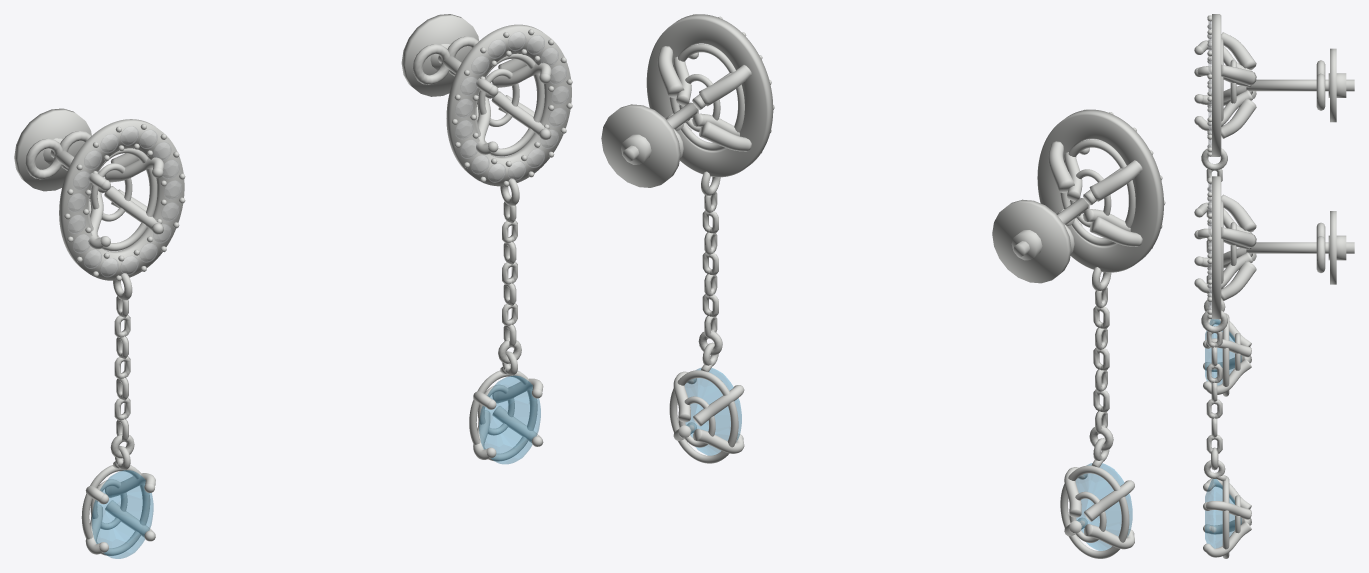
Rendered from Earring_OvalHaloDrop.glb.
3 renders of one model, left to right at view 1: azimuth 30°, elevation 25°; view 2: azimuth 150°, elevation 25°; view 3: azimuth 270°, elevation 25°, orthographic. The views are drawn at different scales.
Parts seen in each view (by area): view 1: Halo_Frame, Halo_Frame.001, Drop_Chain_Center, Drop_Chain_Pair, Accent_Halo.001, Accent_Halo, Head_Center.001, Head_Center, Attach_Back, Attach_Back.001, AccentMatch_Drop_Center, AccentMatch_Drop_Pair; view 2: Halo_Frame.001, Halo_Frame, Drop_Chain_Center, Drop_Chain_Pair, Attach_Back.001, Attach_Back, Head_Center.001, Head_Center, AccentMatch_Drop_Pair, AccentMatch_Drop_Center; view 3: Drop_Chain_Center, Halo_Frame, Halo_Frame.001, Drop_Chain_Pair, Head_Center, Head_Center.001, Attach_Back, Attach_Back.001, AccentMatch_Drop_Center, Attach_Post.001, Attach_Post, AccentMatch_Drop_Pair (+2 smaller).
Part boxes in pixels (x1,y1,x2,y2): Halo_Frame: [446, 24, 572, 186]; Halo_Frame.001: [59, 119, 185, 281]; Drop_Chain_Center: [469, 178, 543, 461]; Drop_Chain_Pair: [81, 273, 155, 555]; Accent_Halo.001: [68, 126, 181, 276]; Accent_Halo: [455, 32, 569, 182]; Head_Center.001: [87, 148, 163, 251]; Head_Center: [475, 53, 551, 156]; Attach_Back: [401, 14, 478, 96]; Attach_Back.001: [14, 108, 91, 191]; AccentMatch_Drop_Center: [479, 376, 540, 463]; AccentMatch_Drop_Pair: [92, 470, 153, 558]; Halo_Frame.001: [1037, 109, 1165, 272]; Halo_Frame: [646, 14, 774, 177]; Drop_Chain_Center: [669, 171, 744, 463]; Drop_Chain_Pair: [1060, 267, 1134, 558]; Attach_Back.001: [992, 199, 1074, 283]; Attach_Back: [601, 104, 683, 187]; Head_Center.001: [1060, 139, 1135, 246]; Head_Center: [669, 44, 744, 150]; AccentMatch_Drop_Pair: [1076, 463, 1132, 550]; AccentMatch_Drop_Center: [685, 368, 741, 455]; Drop_Chain_Center: [1201, 309, 1251, 558]; Halo_Frame: [1207, 176, 1256, 319]; Halo_Frame.001: [1207, 14, 1256, 156]; Drop_Chain_Pair: [1201, 147, 1251, 396]; Head_Center: [1194, 201, 1252, 293]; Head_Center.001: [1194, 38, 1252, 130]; Attach_Back: [1316, 211, 1346, 284]; Attach_Back.001: [1316, 48, 1346, 122]; AccentMatch_Drop_Center: [1205, 479, 1241, 548]; Attach_Post.001: [1246, 79, 1354, 91]; Attach_Post: [1246, 242, 1354, 253]; AccentMatch_Drop_Pair: [1205, 319, 1241, 385].
Bounding box in the file's own units: 0.0367 × 0.0302 × 0.0117.
